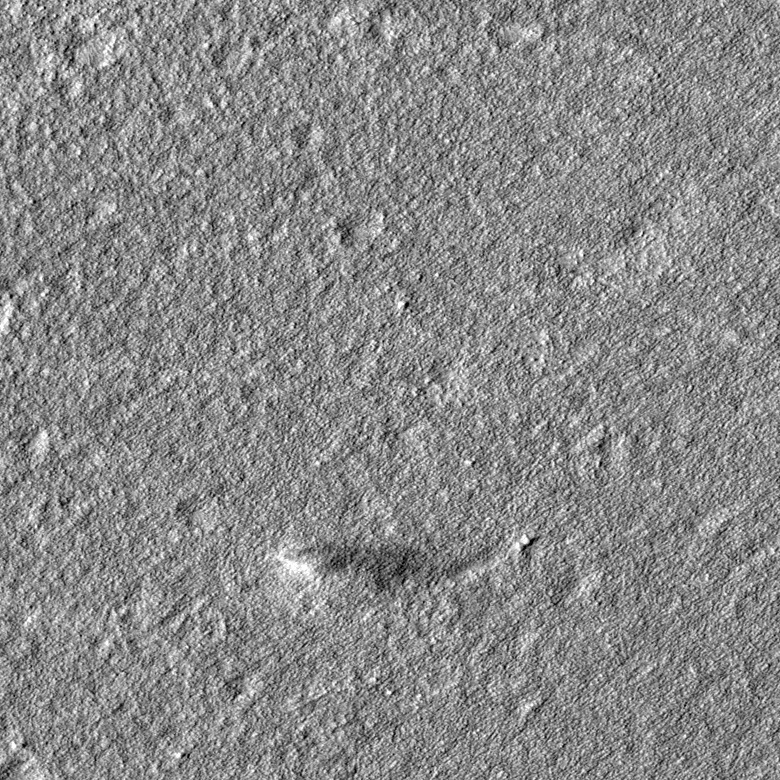dust_devil: (276, 544, 470, 597)
